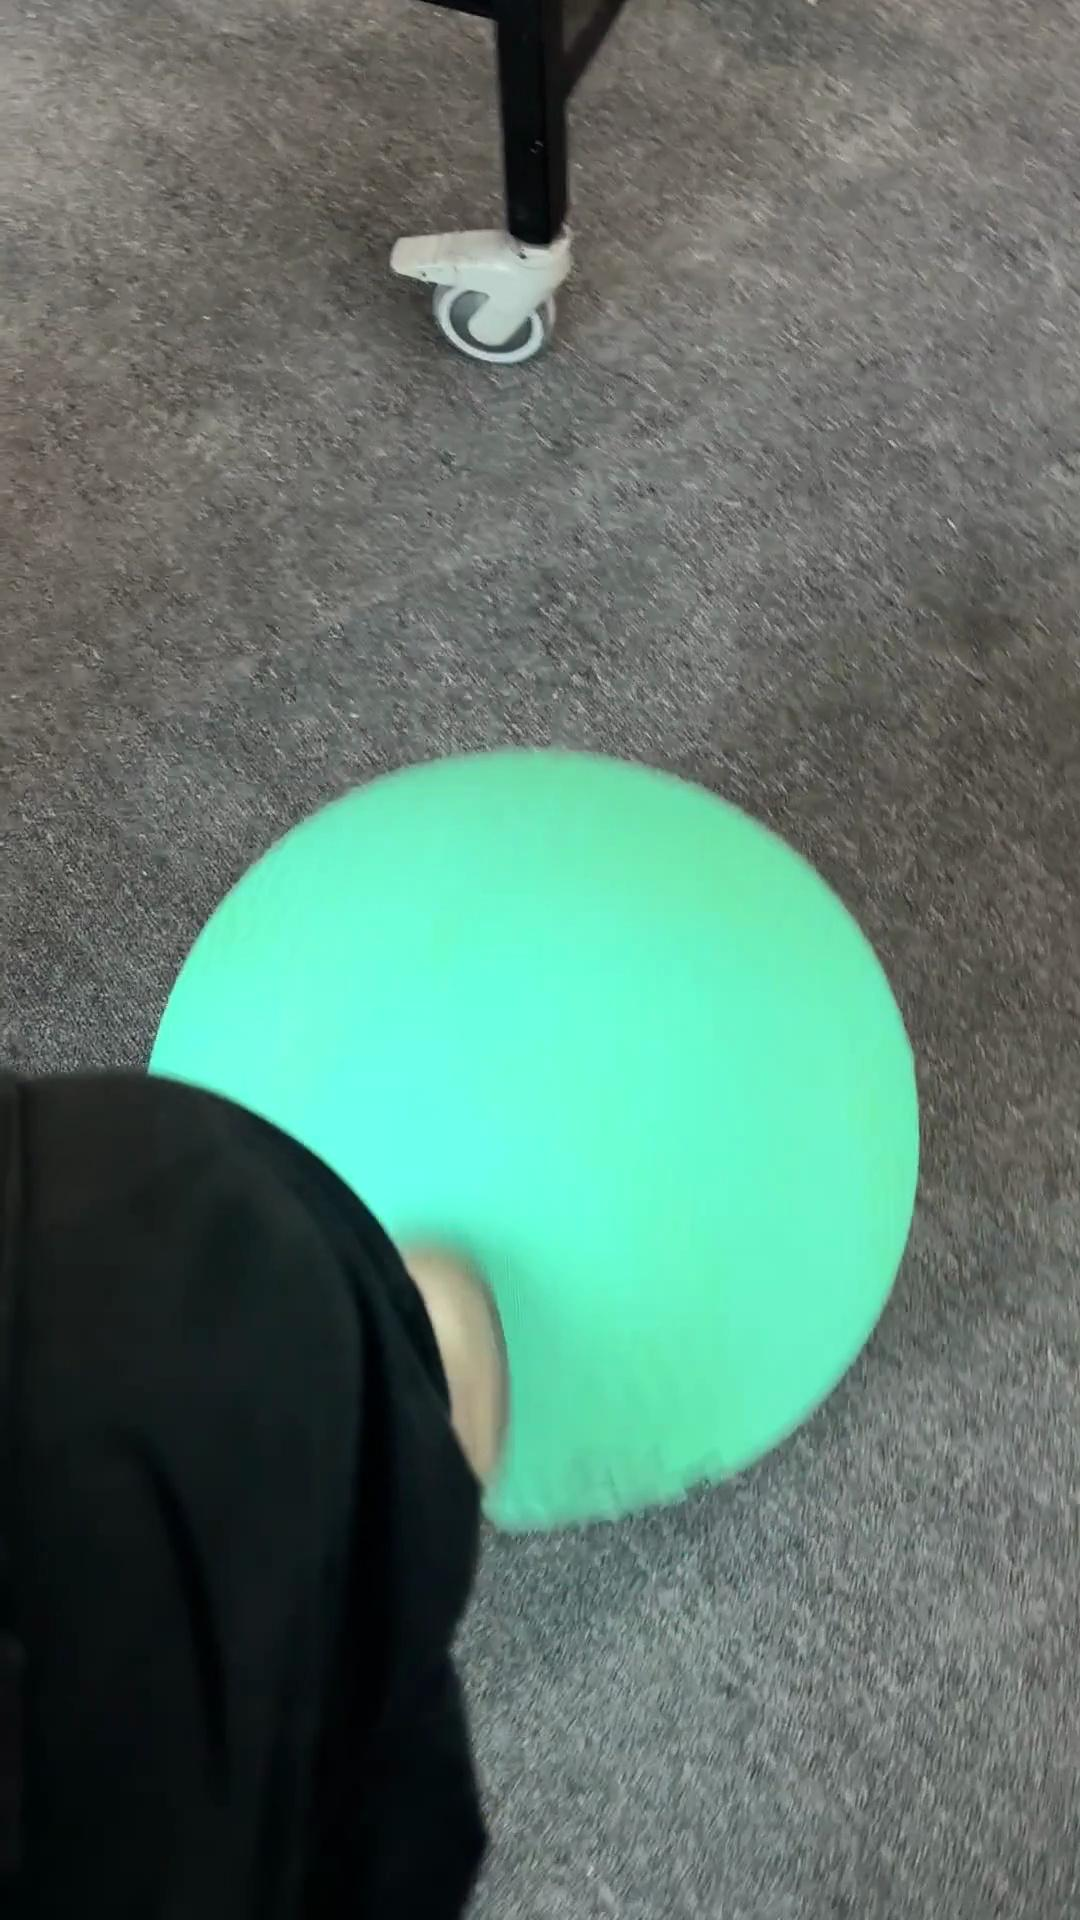ALGAE: (144, 743, 922, 1534)
